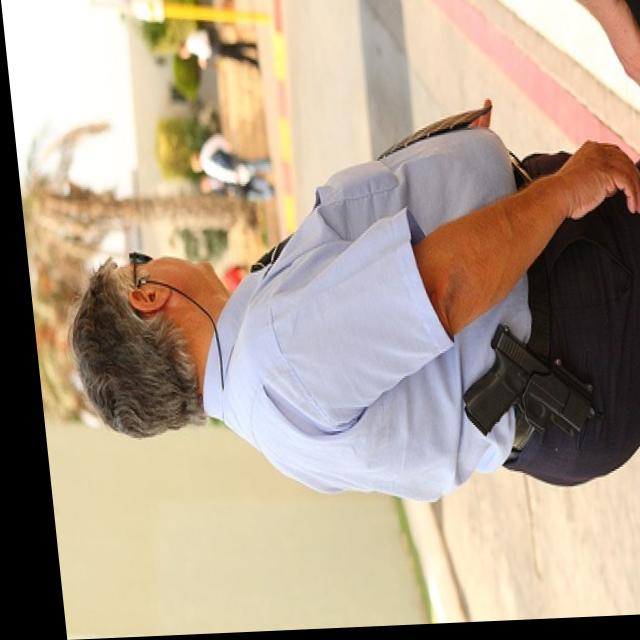handgun: (445, 319, 592, 448)
